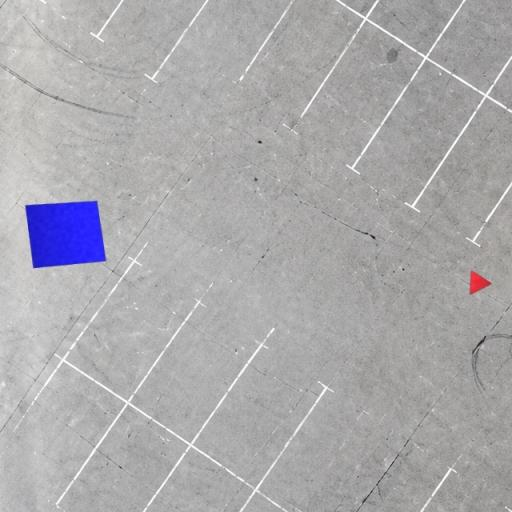BLUE_SQUARE: (24, 200, 107, 269)
